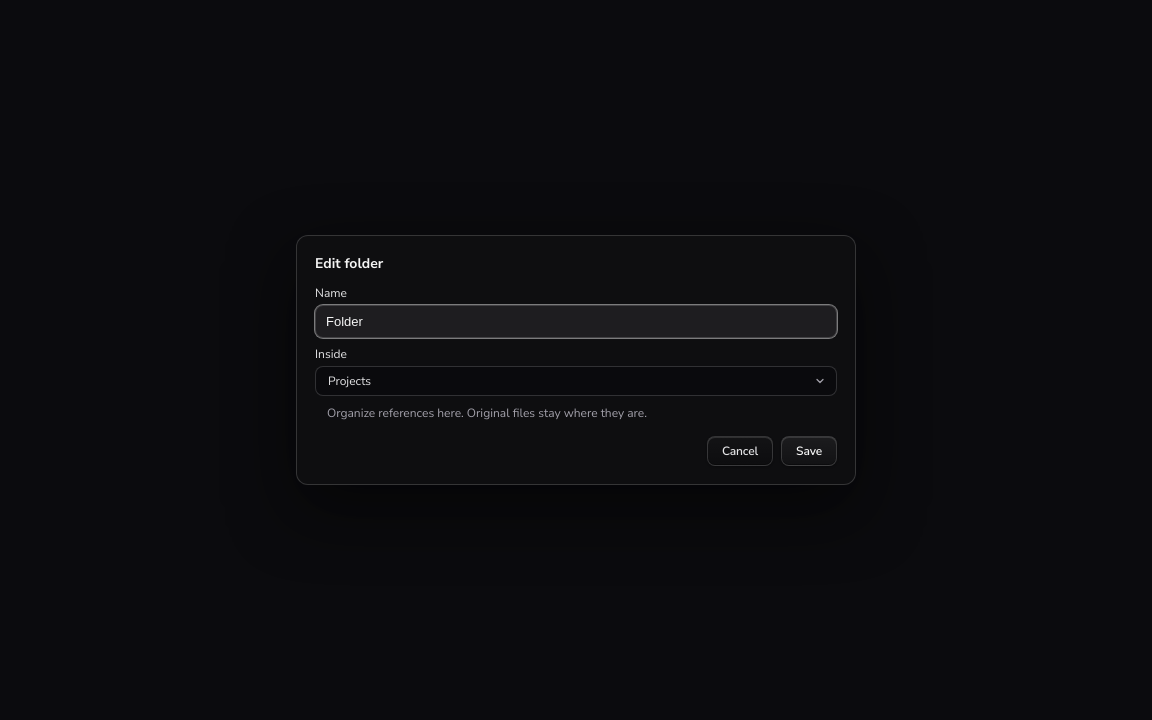
Test: does not resurrect a folder deleted while its metadata dialog was open
Click the button "Save" at (809, 451), box [781, 436, 837, 466]
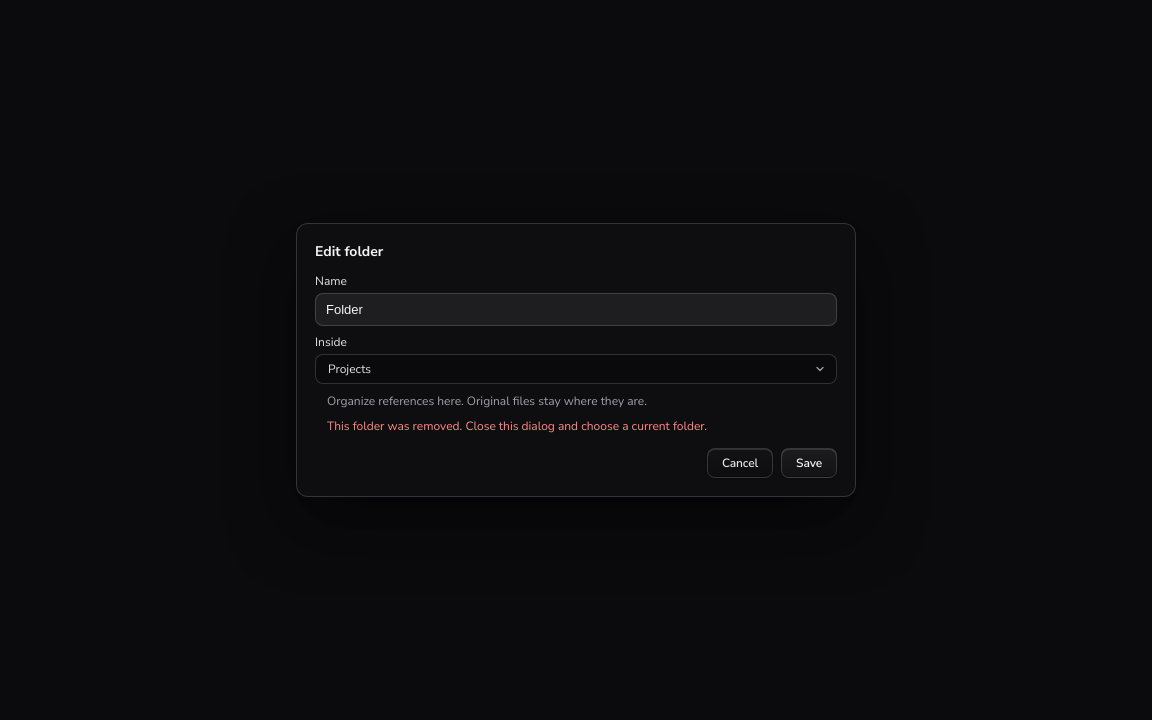
Now the message shows "removed", box [327, 418, 707, 434]
